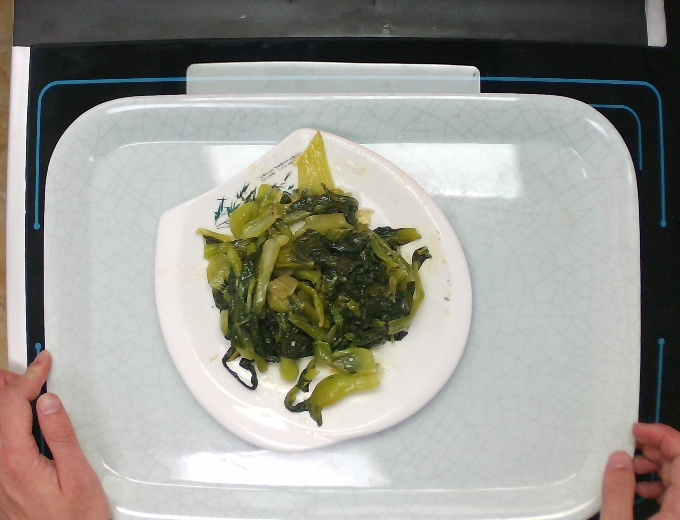JYsf-Mian_Pan: (151, 124, 474, 454)
